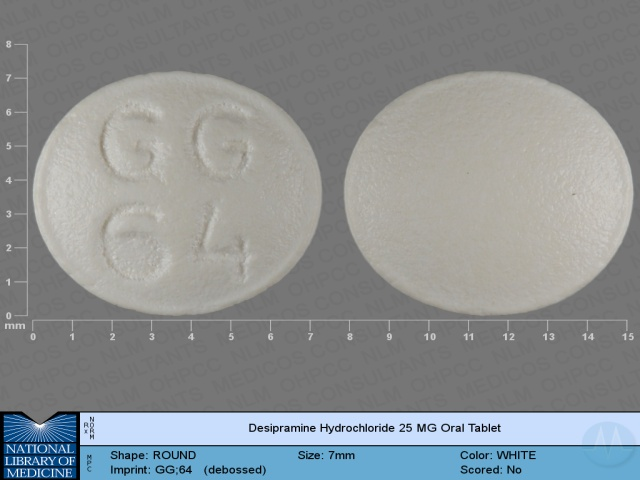4: (191, 199, 261, 286)
6: (99, 197, 171, 286)
G: (96, 103, 166, 186), (187, 101, 257, 184)
